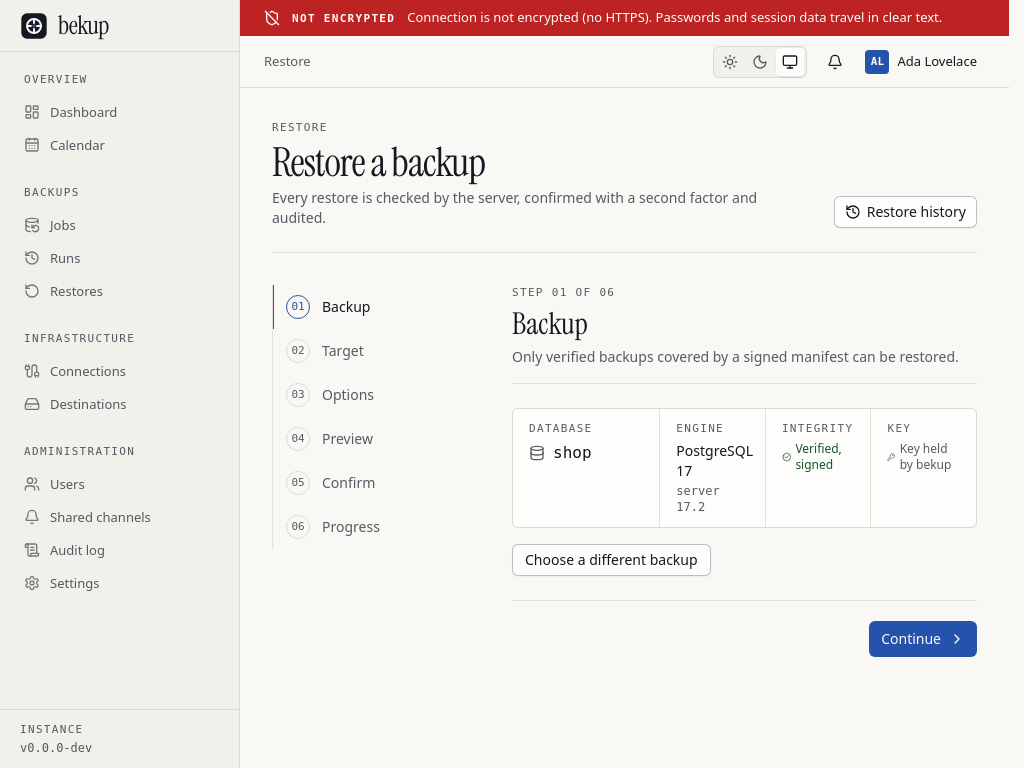
Scenario: restore wizard › offers admins a temporary connection and refuses targets that are not ready
Check: the text "shop" is shown, box top-left (553, 440), bottom-right (592, 464)
Click the button "Continue" at (923, 638), box top-left (869, 620), bottom-right (977, 656)
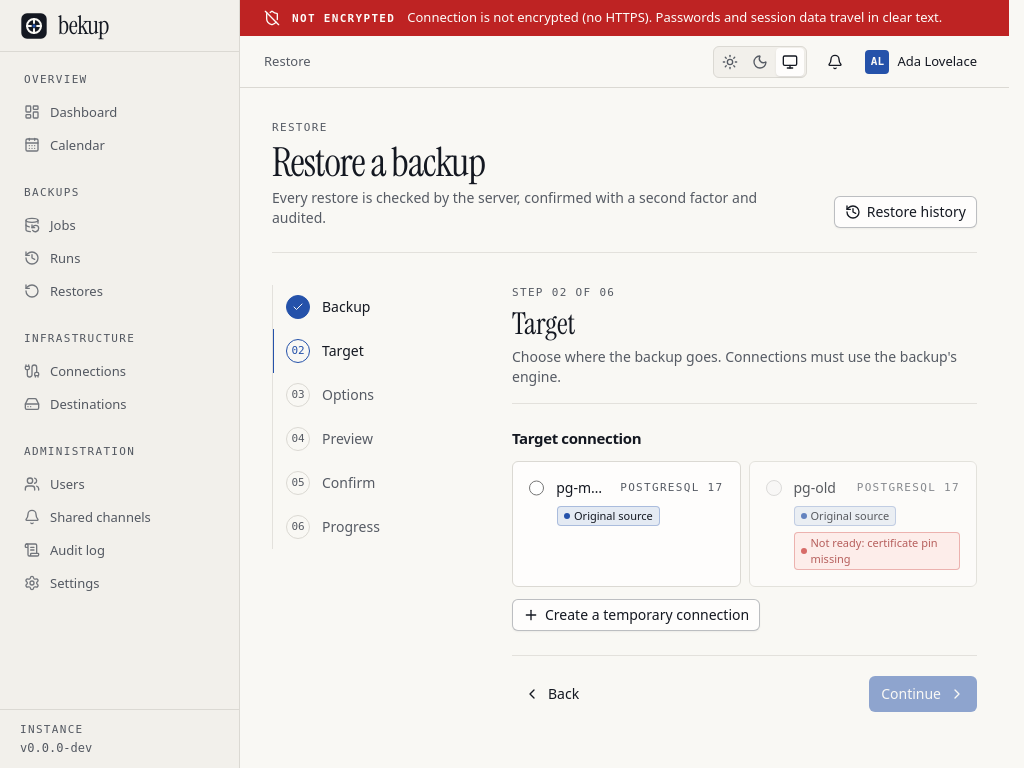
Check: the heading "Target" is shown, box top-left (512, 304), bottom-right (575, 343)
Check: the radio button labelled "pg-old" is disabled, box top-left (766, 480), bottom-right (782, 496)
Check: the text "Not ready: certificate pin missing" is shown, box top-left (794, 532), bottom-right (960, 570)
